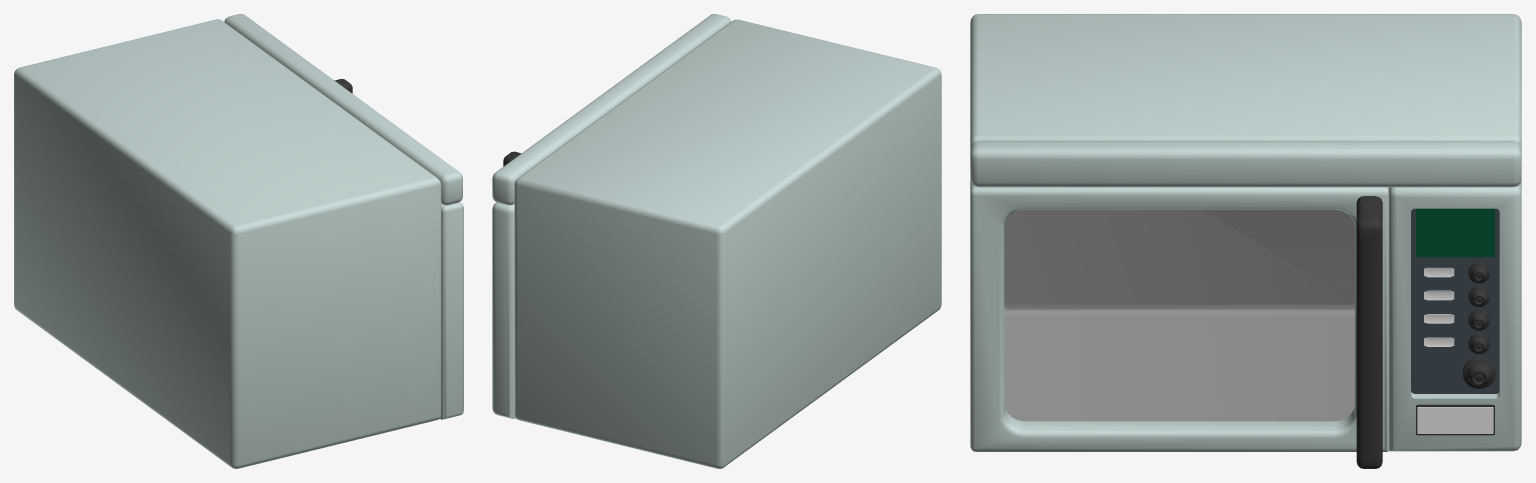
Rendered from microwave.fbx.
3 renders of one model, left to right at view 1: azimuth 30°, elevation 25°; view 2: azimuth 150°, elevation 25°; view 3: azimuth 270°, elevation 25°, orthographic. The views are drawn at different scales.
Visible parts, largest first — view 1: Sphere.001; view 2: Sphere.001; view 3: Sphere.001.
Boxes of the visible parts, bbox=[...] form: Sphere.001: bbox=[14, 14, 463, 468]; Sphere.001: bbox=[492, 14, 941, 468]; Sphere.001: bbox=[970, 14, 1521, 468].
Bounding box in the file's own units: 238 × 200 × 331.
